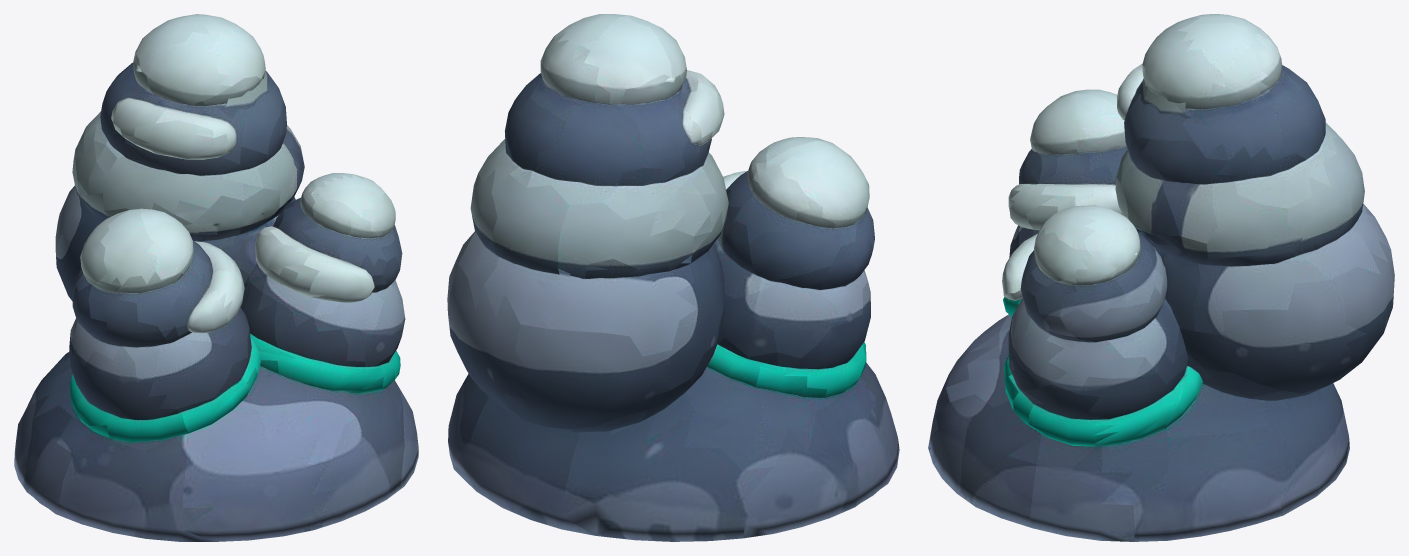
The model's file is la_estalagmita.glb.
The picture shows the model from 3 angles, left to right: view 1: azimuth 30°, elevation 25°; view 2: azimuth 150°, elevation 25°; view 3: azimuth 270°, elevation 25°; orthographic projection. The views are drawn at different scales.
Size of the model in its own units: 0.9238 by 1 by 0.9746.
1 material, 1 textured.
